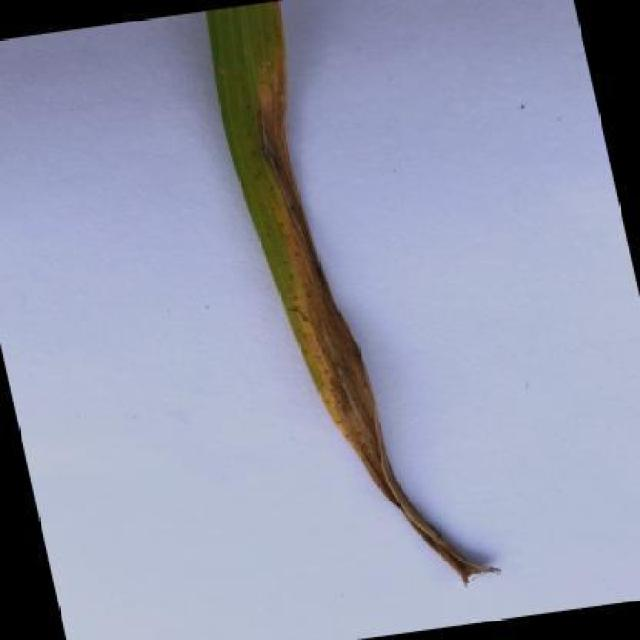Rice False Smut: (195, 8, 500, 590)
